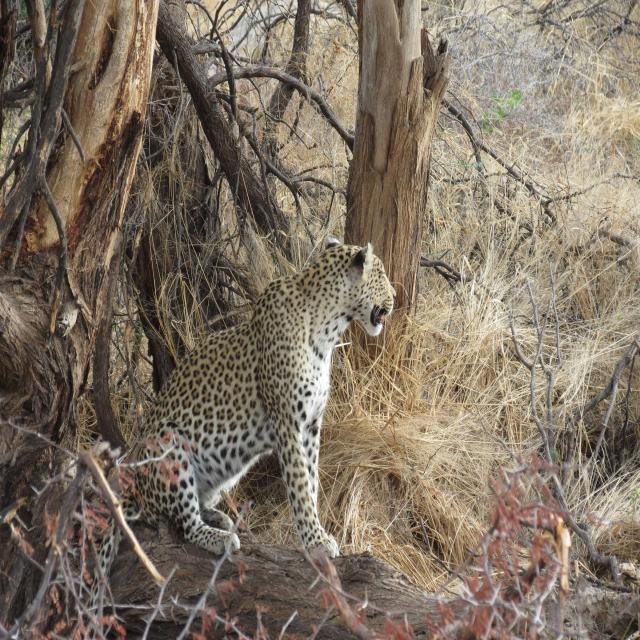Leopard: (73, 220, 396, 577)
